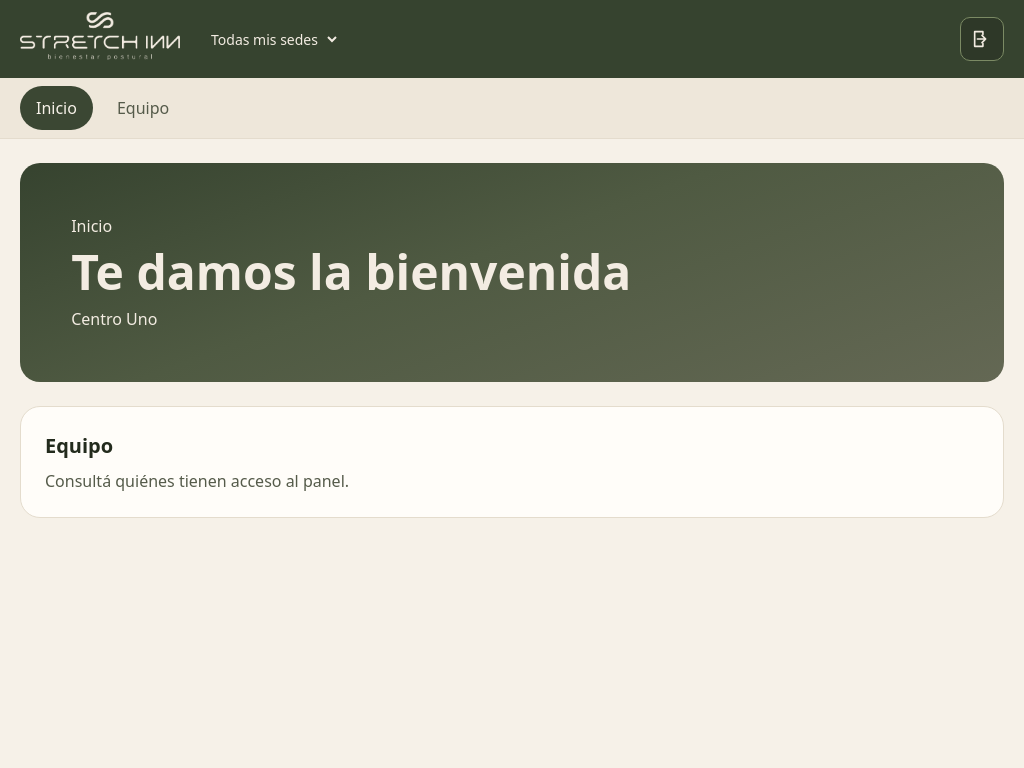
sumar persona › si el email ya tenía cuenta, avisa que entra con su contraseña de siempre
Click the link "Equipo": click(143, 108) x1=117 y1=97 x2=169 y2=119
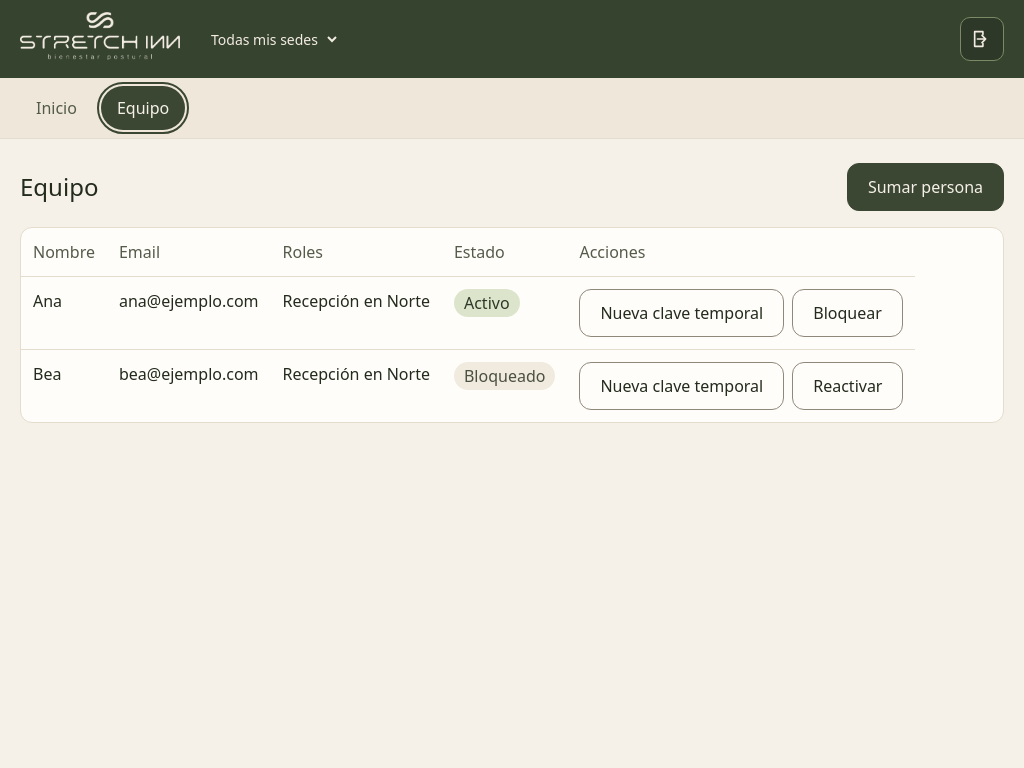
Check: the heading "Equipo" is shown, box x1=20 y1=169 x2=98 y2=205
Click the button "Sumar persona": click(925, 187) x1=847 y1=163 x2=1004 y2=211
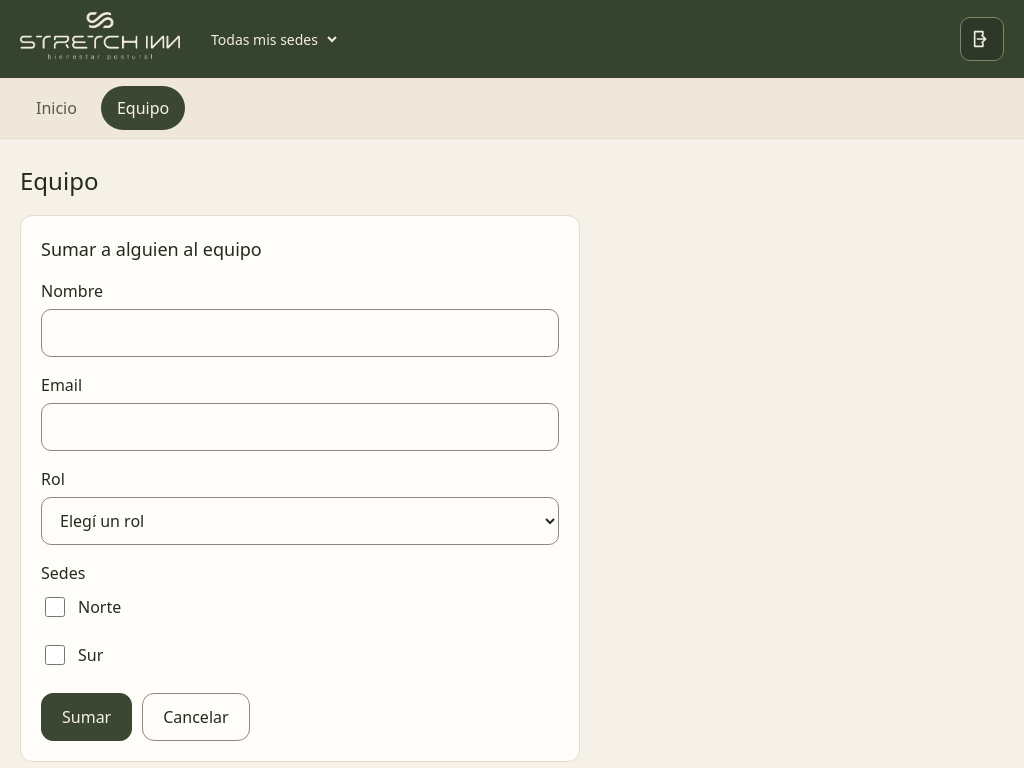
In the field labelled "Nombre": (300, 333) x1=41 y1=309 x2=559 y2=357, type "Caro"
In the field labelled "Email": (300, 427) x1=41 y1=403 x2=559 y2=451, type "caro@ejemplo.com"
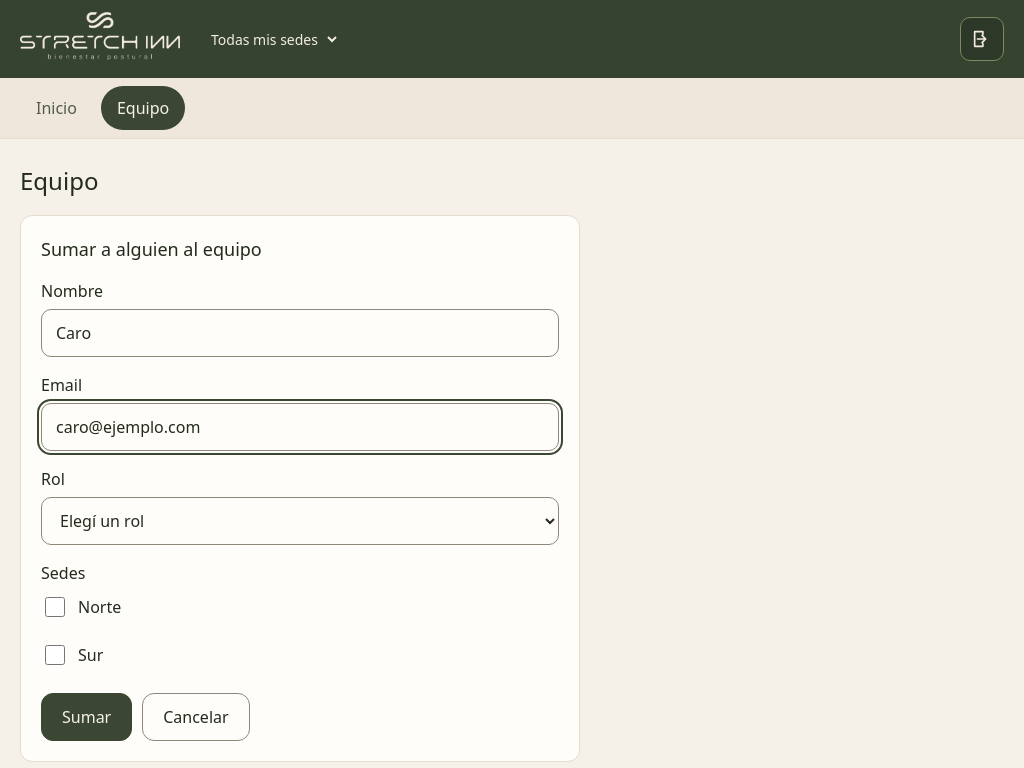
Select "Recepción" in the dropdown labelled "Rol": (300, 521) x1=41 y1=497 x2=559 y2=545
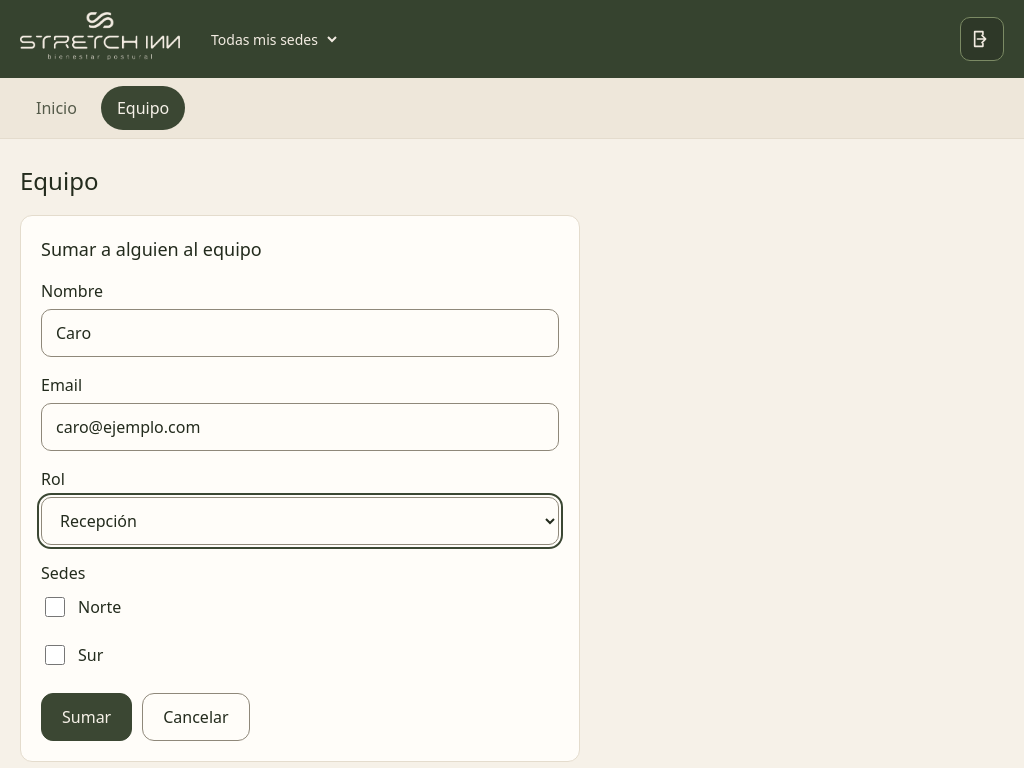
Click the checkbox labelled "Norte": click(55, 607) x1=45 y1=597 x2=65 y2=617
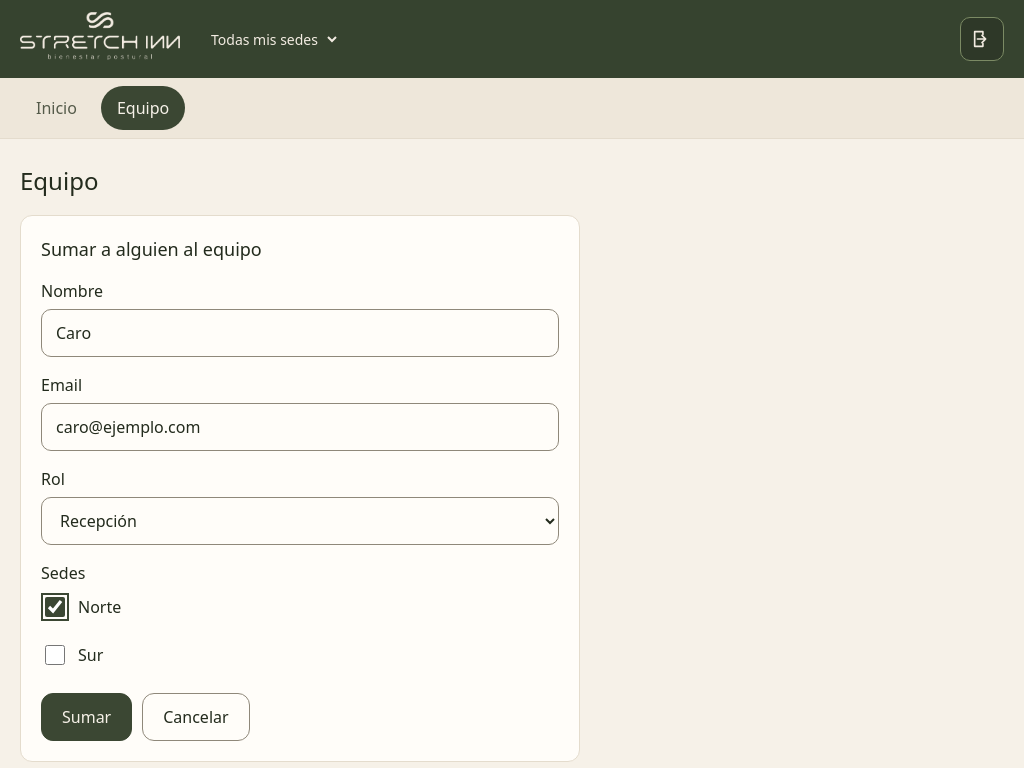
Click the button "Sumar": click(87, 717) x1=41 y1=693 x2=132 y2=741
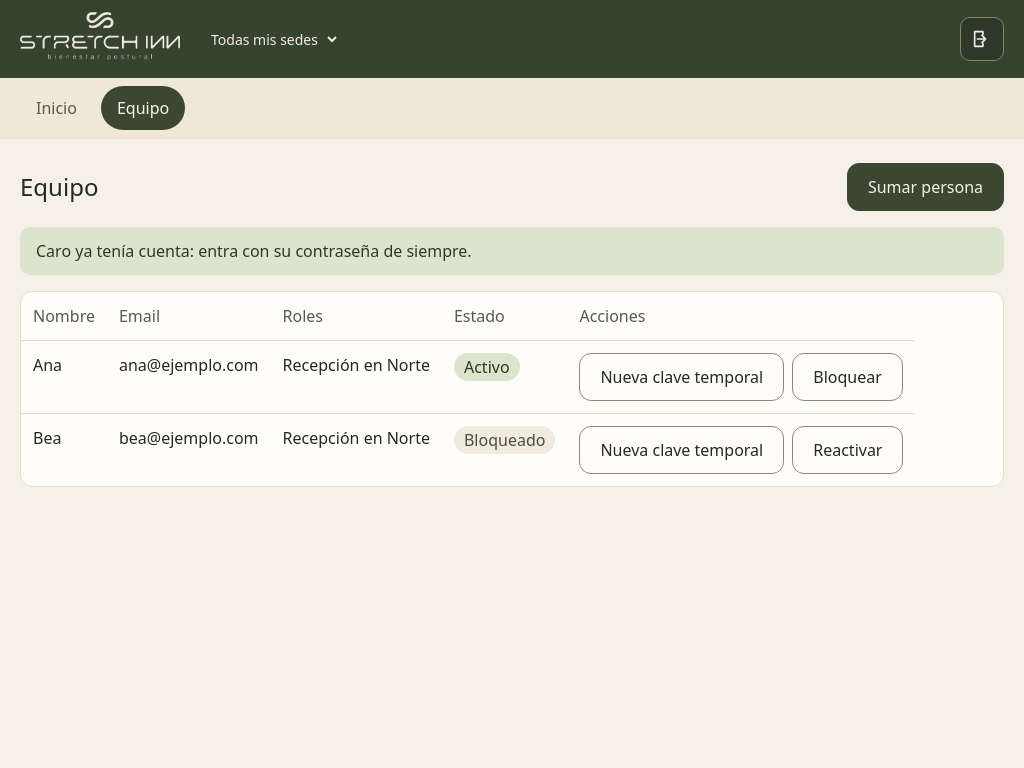
Check: the message reads "Caro ya tenía cuenta: entra con su contraseña de siempre.", box x1=20 y1=227 x2=1004 y2=275
